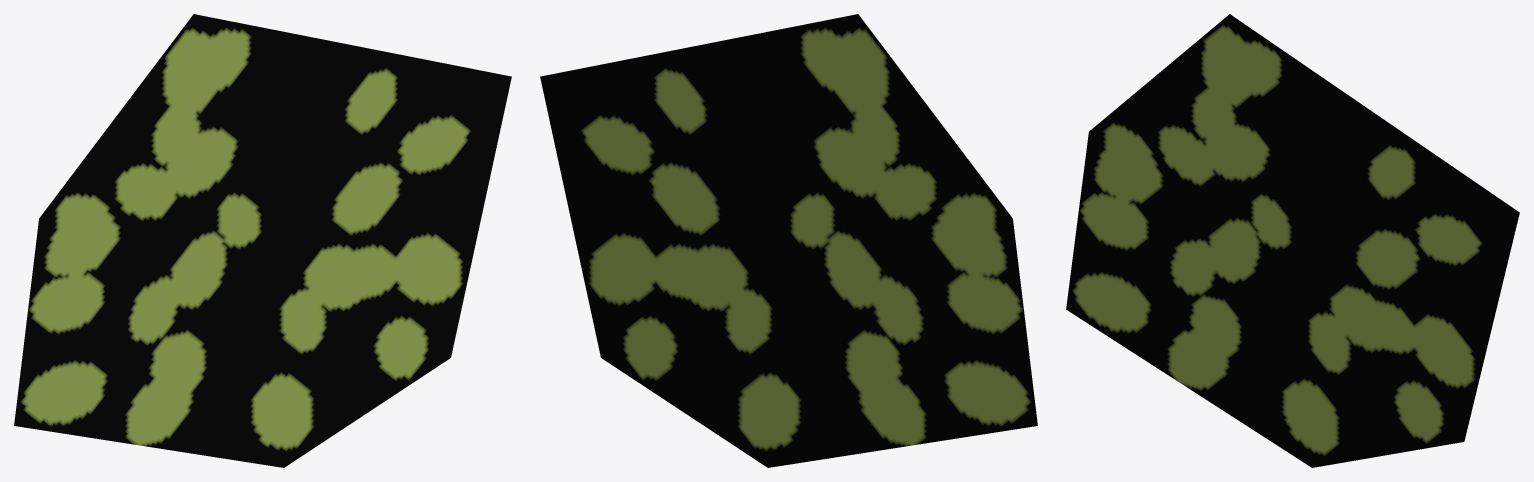
Rendered from LeafLitter_01.fbx.
The picture shows the model from 3 angles, left to right: view 1: azimuth 30°, elevation 25°; view 2: azimuth 150°, elevation 25°; view 3: azimuth 330°, elevation 25°; orthographic projection. The views are drawn at different scales.
Visible parts, largest first — view 1: LeafLitter_01; view 2: LeafLitter_01; view 3: LeafLitter_01.
Part boxes in pixels (left/top/right/bottom): LeafLitter_01: left=14, top=14, right=511, bottom=467; LeafLitter_01: left=540, top=14, right=1037, bottom=467; LeafLitter_01: left=1066, top=14, right=1519, bottom=467.
Bounding box in the file's own units: 598 × 547 × 3.35e-14.
1 material, 1 textured.
